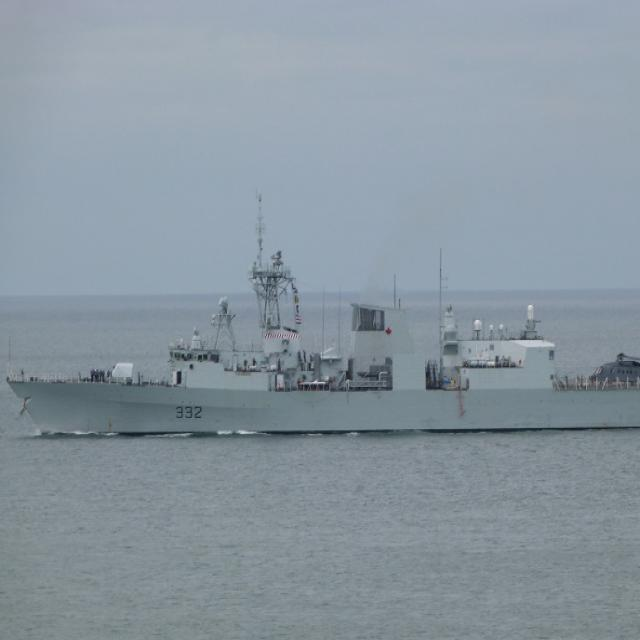Fragata: (2, 226, 640, 448)
